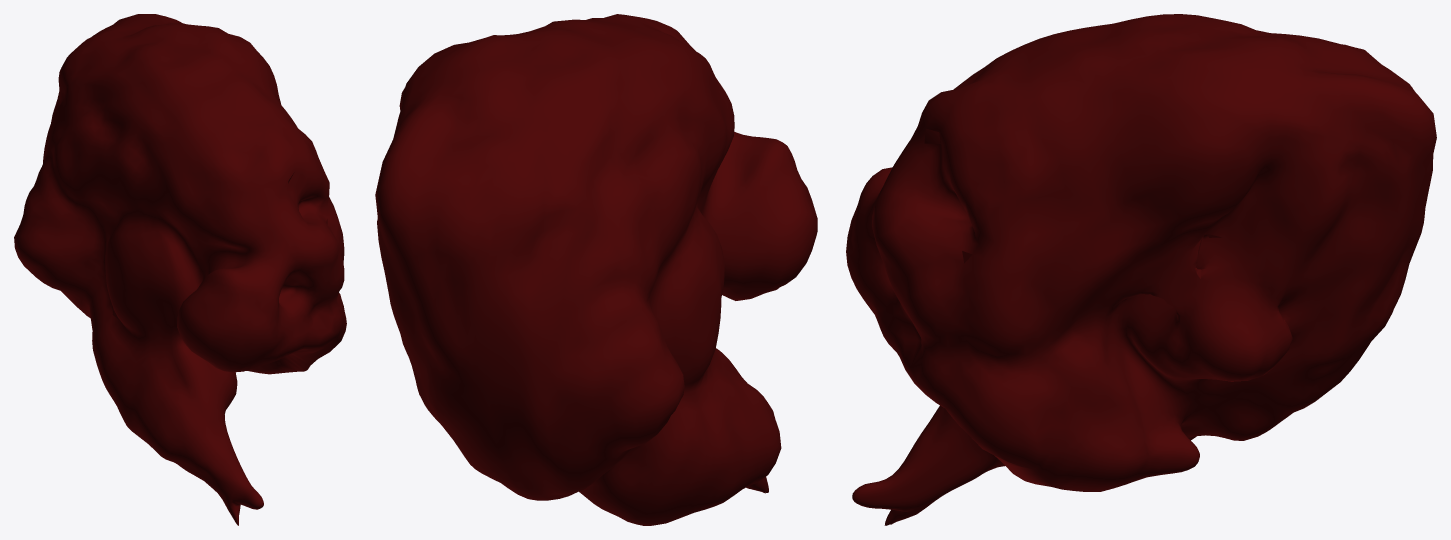
The model's file is Heart.obj.
The picture shows the model from 3 angles, left to right: view 1: azimuth 30°, elevation 25°; view 2: azimuth 150°, elevation 25°; view 3: azimuth 270°, elevation 25°; orthographic projection. The views are drawn at different scales.
Parts seen in each view (by area): view 1: Heart; view 2: Heart; view 3: Heart.
Boxes of the visible parts, x1=… form: Heart: x1=14, y1=14, x2=346, y2=525; Heart: x1=375, y1=14, x2=817, y2=525; Heart: x1=846, y1=14, x2=1436, y2=525.
Bounding box in the file's own units: 3.08 × 5.07 × 5.09.
